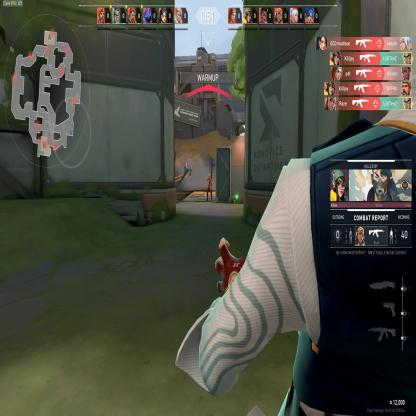enemy: (206, 173, 212, 202)
